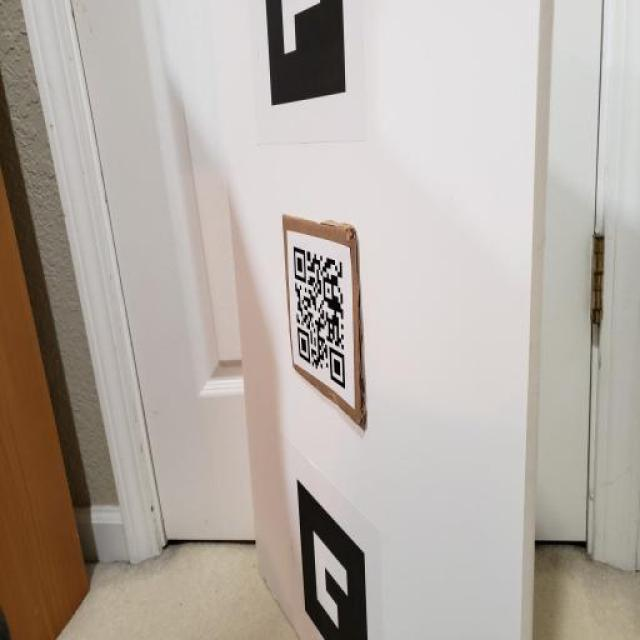QR_CODE: (288, 238, 357, 398)
